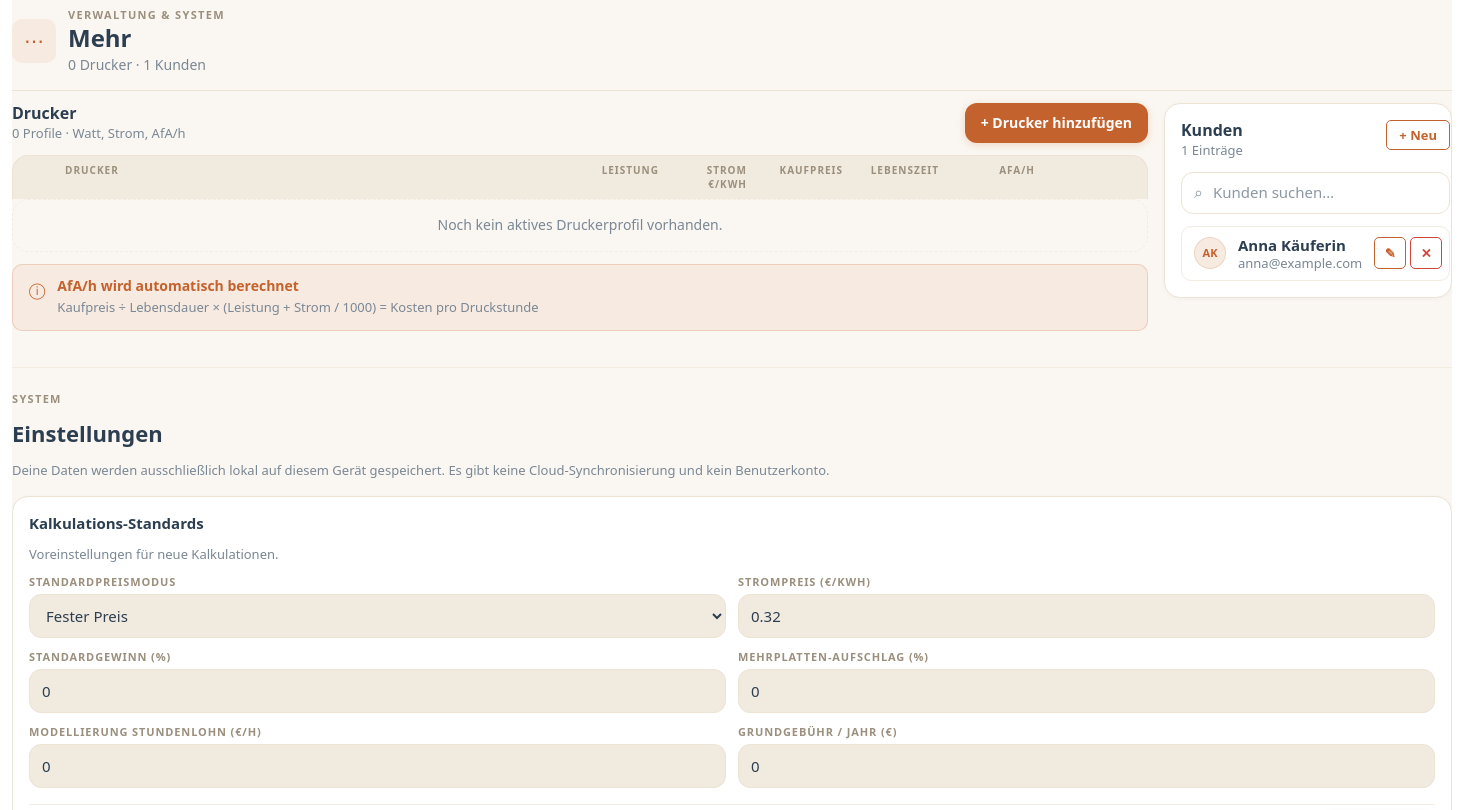
it: MoreComponent › soft deletes a customer directly without confirmation and removes it from list
Click the button with test id "delete-customer".
click(1426, 253)  # box x1=1410 y1=237 x2=1442 y2=269
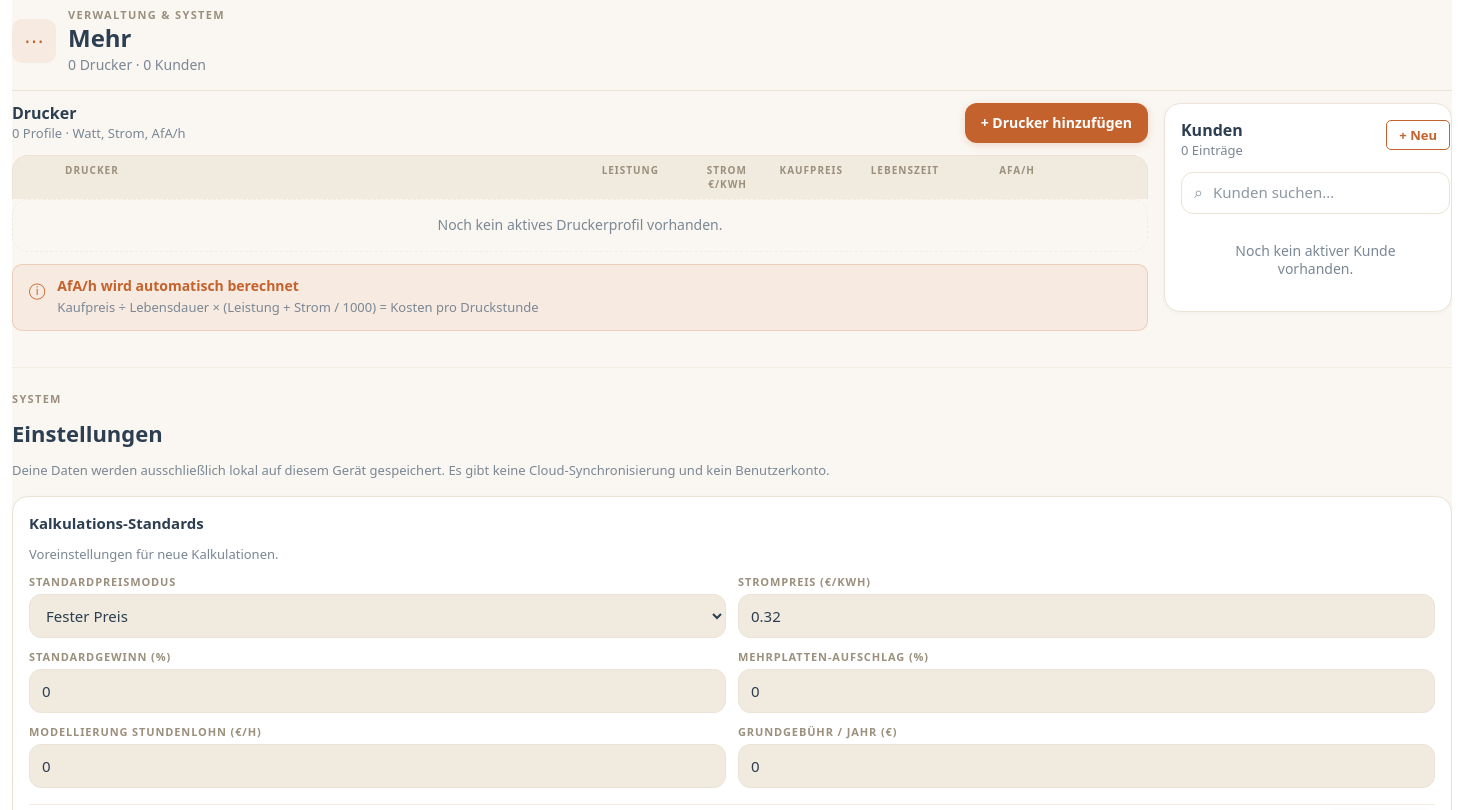
Now the text "Noch kein aktiver Kunde vorhanden." is shown, box x1=1235 y1=240 x2=1396 y2=278
